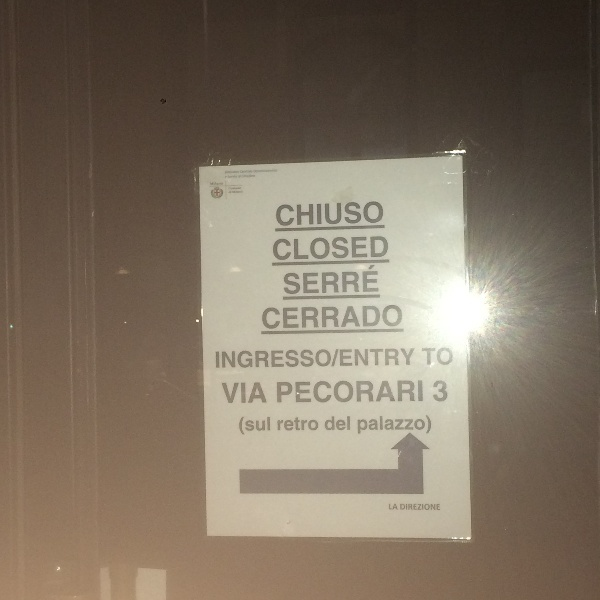text: (289, 264, 304, 295), (305, 264, 320, 295), (321, 264, 336, 295), (337, 264, 352, 295), (353, 264, 368, 295), (289, 200, 304, 227), (305, 200, 320, 227), (321, 200, 336, 227), (337, 200, 352, 227), (353, 200, 368, 227), (369, 200, 384, 227), (273, 236, 288, 261), (289, 236, 304, 261), (305, 236, 320, 261), (321, 236, 336, 261), (337, 236, 352, 261), (353, 236, 368, 261), (369, 236, 384, 261), (273, 305, 288, 330), (289, 305, 304, 330), (305, 305, 320, 330), (321, 305, 336, 330), (337, 305, 352, 330), (353, 305, 368, 330), (369, 305, 384, 330), (385, 305, 400, 330), (289, 380, 304, 404), (305, 380, 320, 404), (321, 380, 336, 404), (337, 380, 352, 404), (353, 380, 368, 404), (369, 380, 384, 404), (385, 380, 400, 404), (401, 380, 416, 404), (225, 382, 240, 404), (241, 382, 256, 404), (369, 264, 379, 295), (225, 349, 240, 369), (241, 349, 256, 369), (257, 349, 272, 369), (273, 349, 288, 369), (289, 349, 304, 369), (305, 349, 320, 369), (321, 349, 336, 369), (369, 415, 384, 435), (385, 415, 400, 435), (401, 415, 416, 435), (417, 415, 432, 435), (277, 200, 288, 227), (353, 348, 368, 367), (369, 348, 384, 367), (385, 348, 400, 367), (241, 417, 256, 436), (433, 348, 448, 366), (401, 348, 415, 367), (257, 417, 271, 436), (277, 380, 288, 404), (262, 305, 272, 330), (340, 348, 352, 367), (257, 382, 267, 404), (358, 415, 368, 435), (337, 417, 351, 431), (289, 418, 304, 431), (305, 418, 319, 431), (422, 348, 432, 366), (216, 349, 224, 369), (417, 380, 423, 404), (326, 417, 336, 431), (278, 418, 288, 431), (284, 264, 288, 295), (401, 504, 416, 511), (417, 504, 432, 511), (385, 236, 389, 261), (389, 504, 400, 511), (257, 169, 272, 174), (449, 348, 453, 366), (241, 170, 256, 174), (242, 175, 256, 179), (401, 305, 403, 330), (433, 504, 440, 511), (225, 171, 240, 174), (222, 382, 224, 404), (337, 349, 339, 369), (211, 183, 224, 186), (228, 176, 240, 179), (229, 191, 240, 194), (273, 169, 278, 174), (216, 183, 224, 186), (229, 188, 240, 190), (233, 191, 240, 194), (254, 169, 256, 174), (241, 191, 243, 194), (239, 175, 240, 178)
